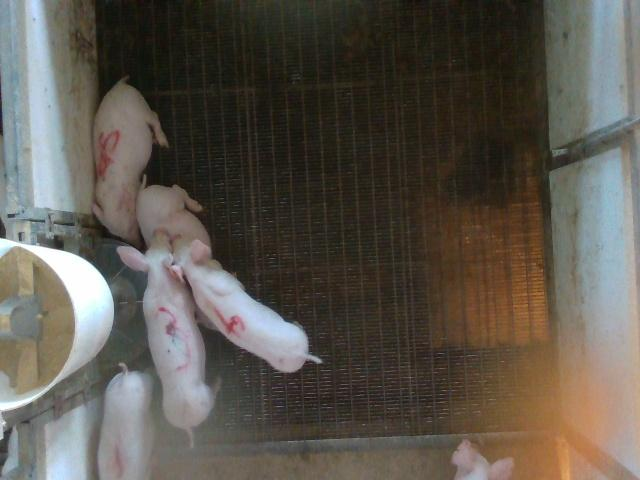pig-1: (98, 362, 154, 478)
pig-3: (119, 230, 215, 443)
pig-4: (174, 238, 321, 372)
pig-5: (91, 76, 169, 247)
